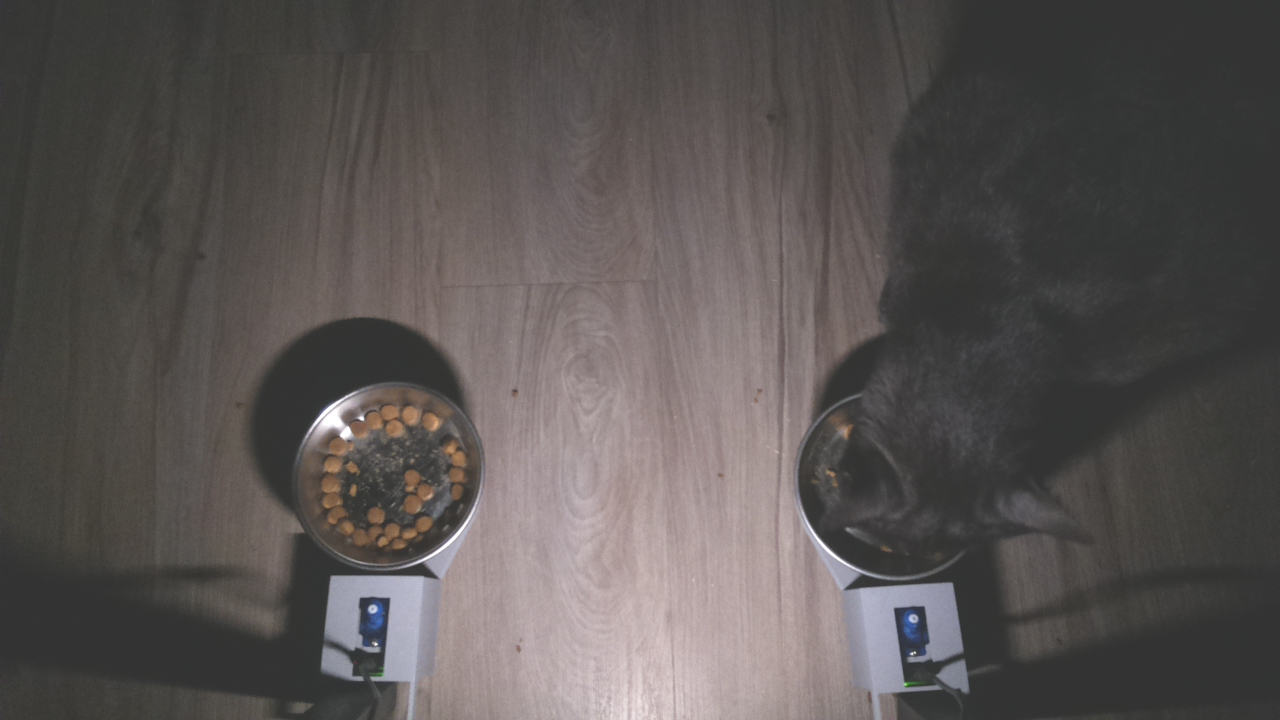open_bowl: (283, 377, 492, 577)
saki_eating: (787, 359, 1107, 583)
